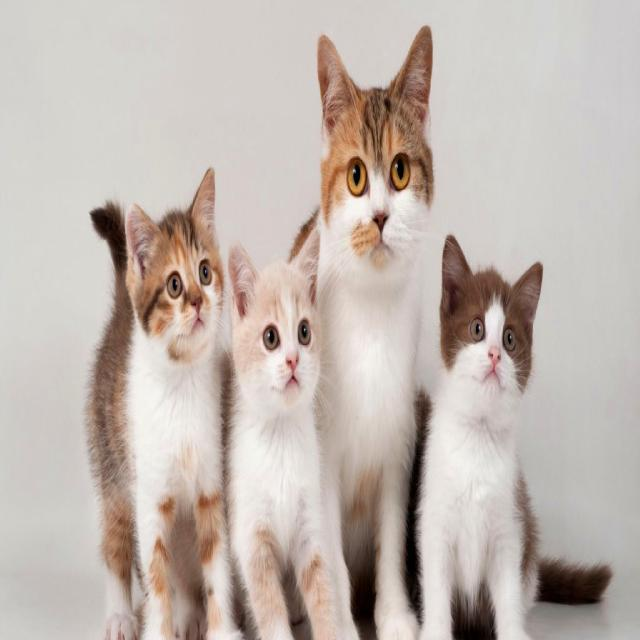cat: (291, 26, 434, 639), (418, 235, 612, 639), (86, 169, 241, 639), (229, 230, 359, 639)
